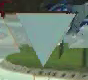Give way: (0, 1, 79, 75)
